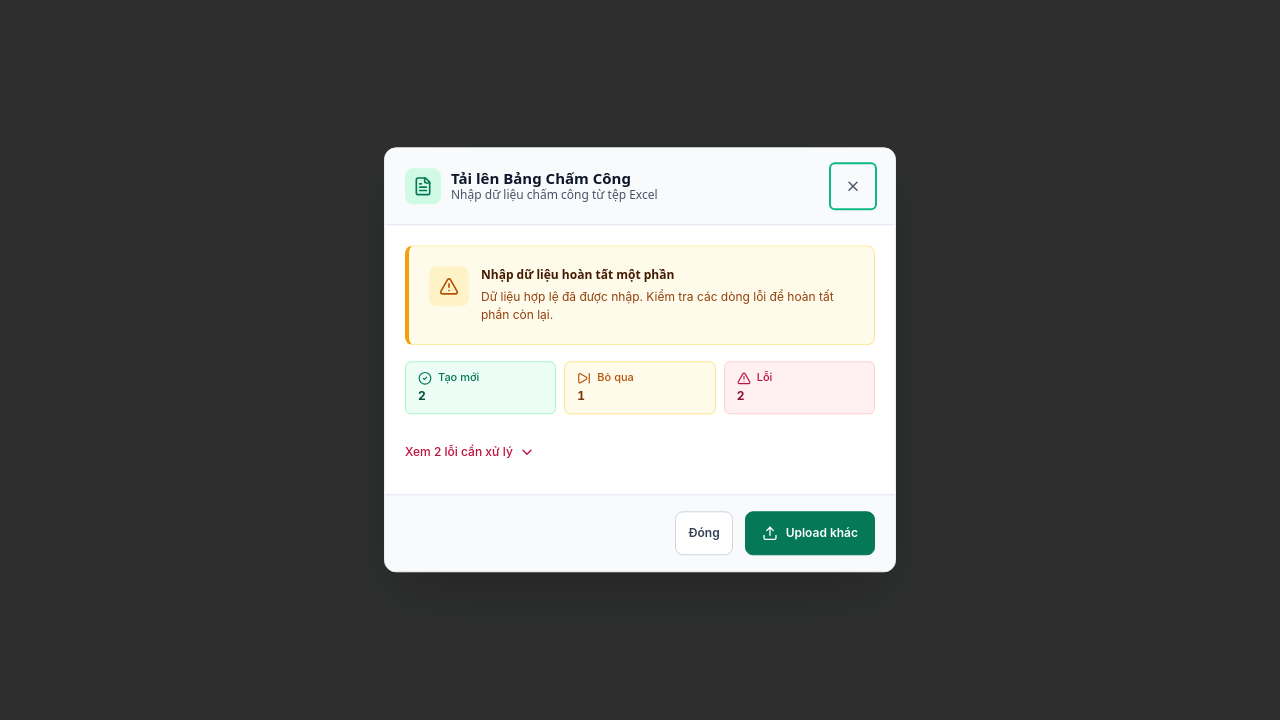
BCCUploadModal result states › renders completed jobs with errors as partial success with grouped details
expect the heading "Nhập dữ liệu hoàn tất một phần" is shown: met, box [481, 266, 674, 283]
expect the text "Tạo mới" is shown: met, box [418, 370, 479, 385]
Click the button "Xem 2 lỗi cần xử lý" at (470, 453), box [405, 431, 535, 475]
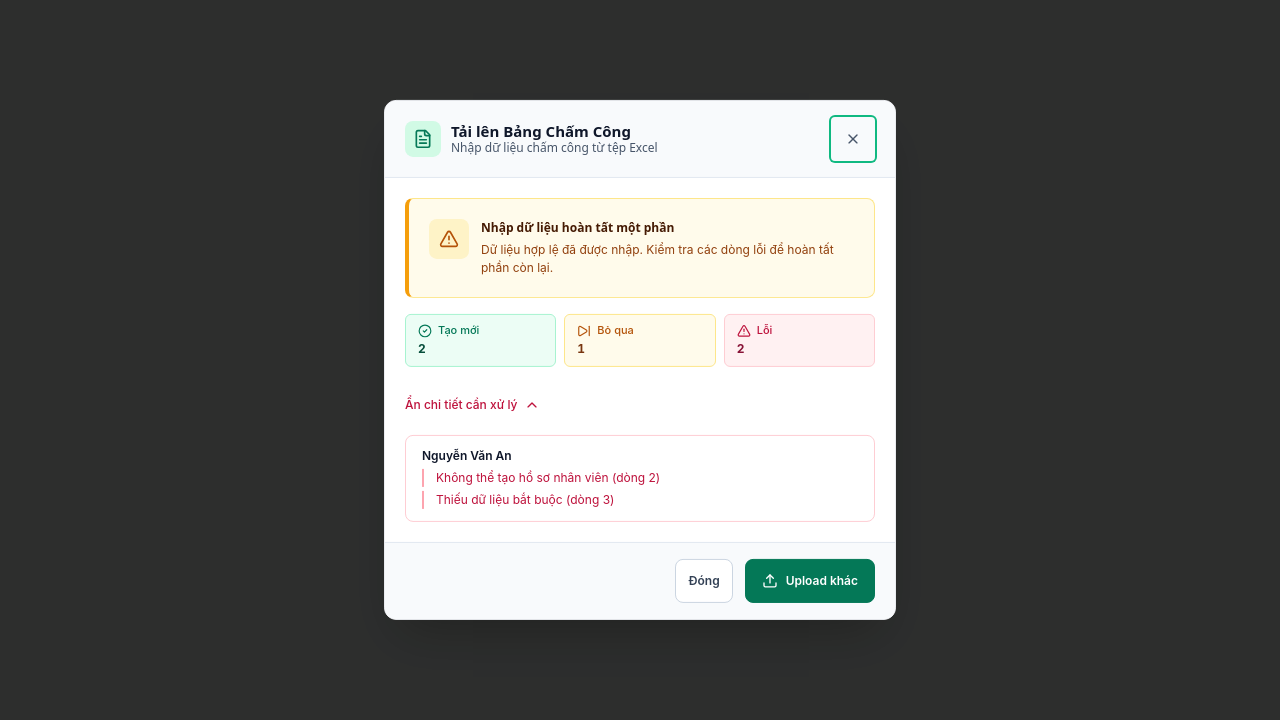
expect the text "Nguyễn Văn An" is shown: met, box [422, 448, 512, 463]
expect the list item "Không thể tạo hồ sơ nhân viên" is shown: met, box [436, 470, 608, 485]
expect the list item "Thiếu dữ liệu bắt buộc" is shown: met, box [436, 492, 563, 507]
